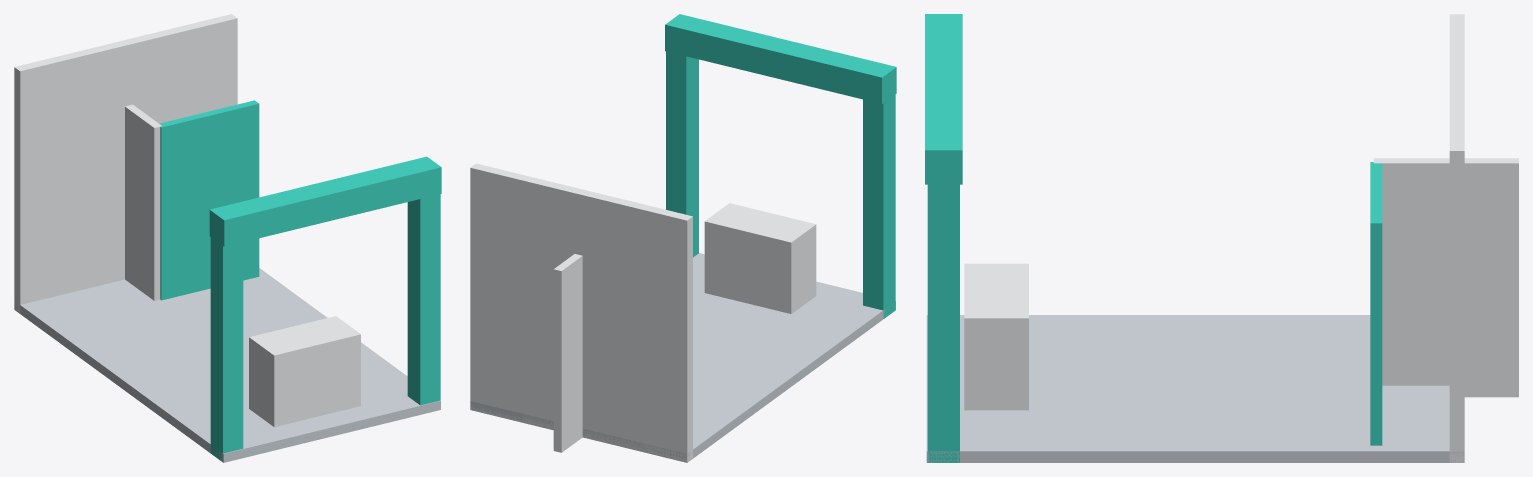
3 renders of one model, left to right at view 1: azimuth 30°, elevation 25°; view 2: azimuth 150°, elevation 25°; view 3: azimuth 270°, elevation 25°, orthographic. The views are drawn at different scales.
Parts seen in each view (by area): view 1: Exhibition Booth Concept; view 2: Exhibition Booth Concept; view 3: Exhibition Booth Concept.
Boxes of the visible parts, x1,y1,x2,y2 form: Exhibition Booth Concept: (14,14,441,462); Exhibition Booth Concept: (470,14,896,462); Exhibition Booth Concept: (925,14,1518,462).
Bounding box in the file's own units: 3 × 3.2 × 5.52.
